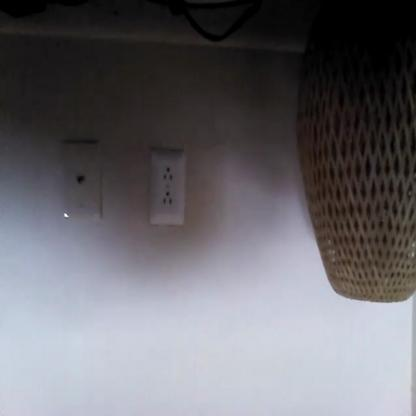OUTLET: (149, 150, 186, 225)
